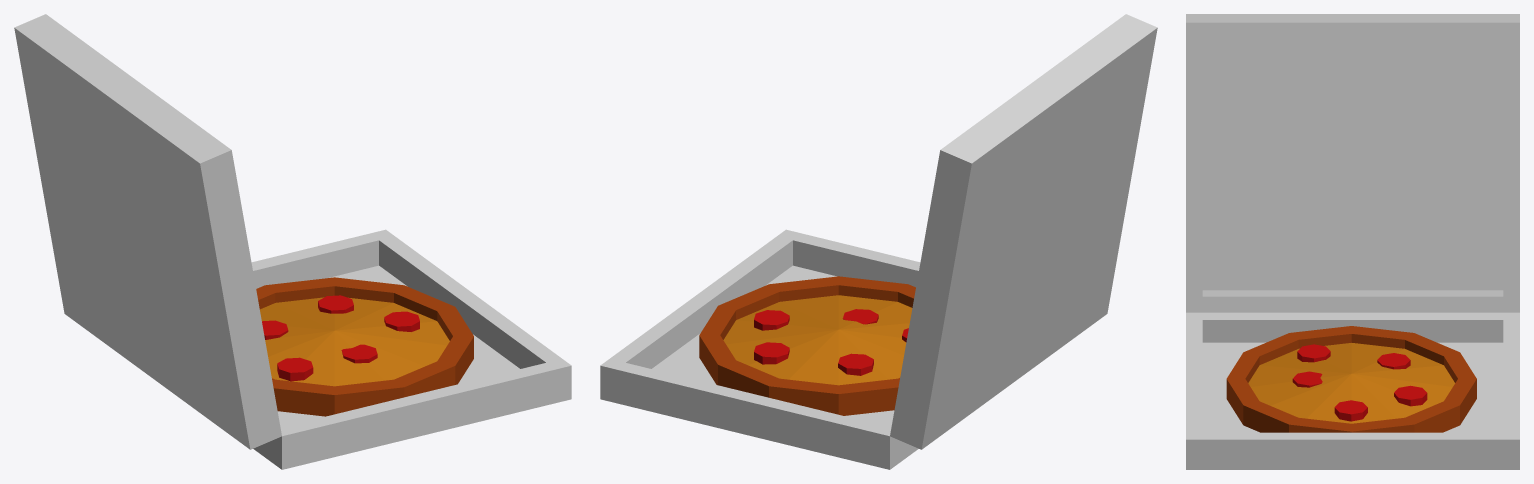
The model's file is Happy_pizza.fbx.
The picture shows the model from 3 angles, left to right: view 1: azimuth 30°, elevation 25°; view 2: azimuth 150°, elevation 25°; view 3: azimuth 270°, elevation 25°; orthographic projection. The views are drawn at different scales.
Visible parts, largest first — view 1: Cube, Cylinder_4, Cylinder_10, Cylinder_9, Cylinder_6; view 2: Cube, Cylinder_4, Cylinder_6, Cylinder_5, Cylinder_9; view 3: Cube, Cylinder_4, Cylinder_9, Cylinder_6, Cylinder_10, Cylinder_5, Cylinder_8.
Part boxes in pixels (bbox=[...]): Cube: bbox=[14, 14, 571, 469]; Cylinder_4: bbox=[256, 277, 473, 416]; Cylinder_10: bbox=[277, 357, 313, 381]; Cylinder_9: bbox=[384, 311, 419, 331]; Cylinder_6: bbox=[318, 295, 353, 313]; Cube: bbox=[600, 14, 1157, 469]; Cylinder_4: bbox=[699, 276, 915, 415]; Cylinder_6: bbox=[754, 342, 789, 364]; Cylinder_5: bbox=[838, 353, 873, 375]; Cylinder_9: bbox=[754, 310, 789, 330]; Cube: bbox=[1186, 14, 1519, 469]; Cylinder_4: bbox=[1226, 326, 1476, 432]; Cylinder_9: bbox=[1334, 400, 1367, 421]; Cylinder_6: bbox=[1394, 385, 1427, 406]; Cylinder_10: bbox=[1297, 344, 1330, 362]; Cylinder_5: bbox=[1377, 353, 1410, 369]; Cylinder_8: bbox=[1292, 371, 1322, 387].
Size of the model in its own units: 231 by 197 by 200.
